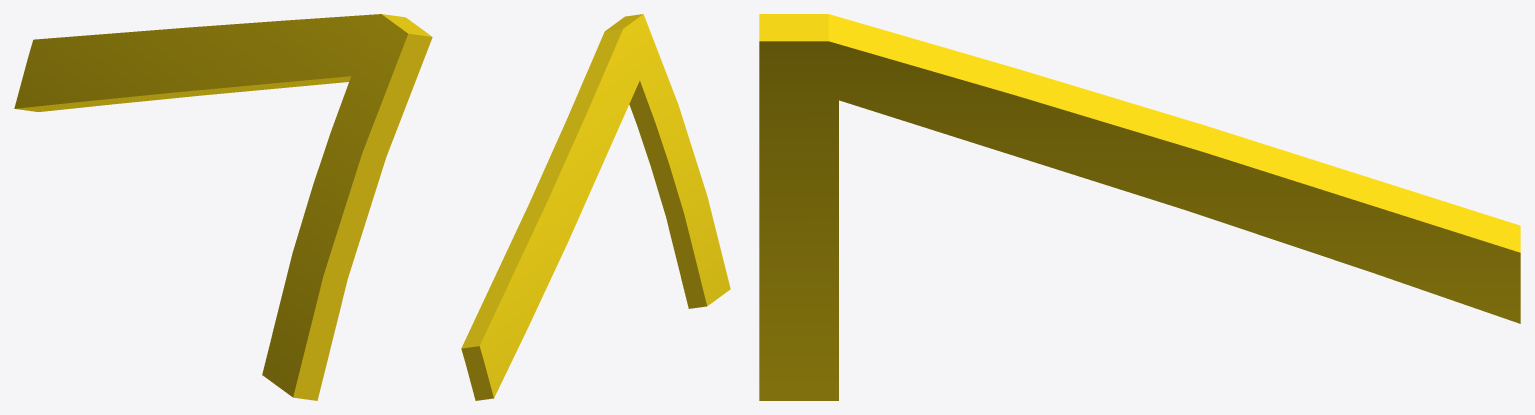
File: Number_7.gltf
3 renders of one model, left to right at view 1: azimuth 30°, elevation 25°; view 2: azimuth 150°, elevation 25°; view 3: azimuth 270°, elevation 25°, orthographic. The views are drawn at different scales.
Parts seen in each view (by area): view 1: Sub_6_Cell_1_1_Number_7; view 2: Sub_6_Cell_1_1_Number_7; view 3: Sub_6_Cell_1_1_Number_7.
Boxes of the visible parts, bbox=[...] form: Sub_6_Cell_1_1_Number_7: bbox=[14, 14, 432, 400]; Sub_6_Cell_1_1_Number_7: bbox=[461, 14, 730, 400]; Sub_6_Cell_1_1_Number_7: bbox=[759, 14, 1520, 400].
Size of the model in its own units: 0.00686 by 0.0162 by 0.0252.
